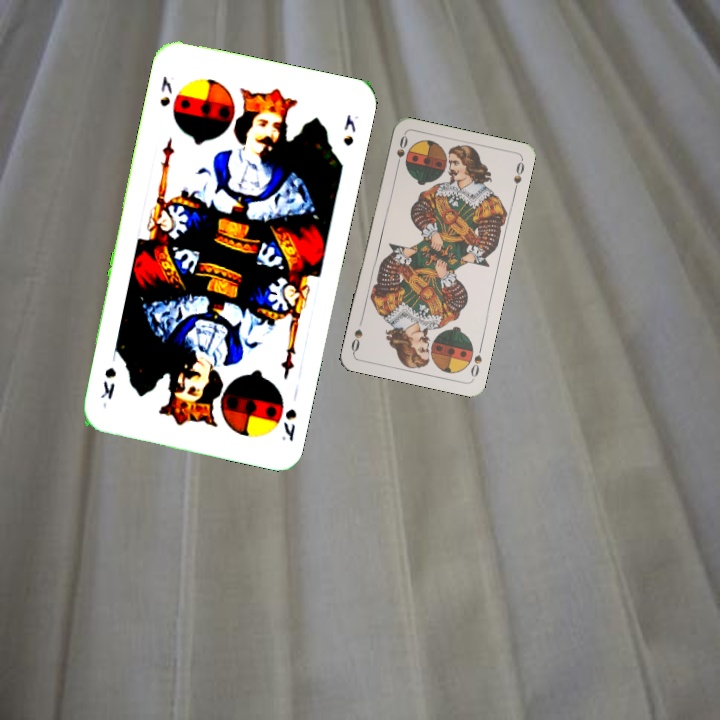SK: (277, 404, 299, 444), (156, 72, 175, 109)
SO: (392, 131, 410, 171), (467, 341, 485, 381)
